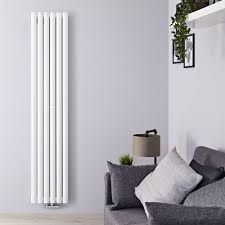Radiator: (28, 10, 71, 209)
